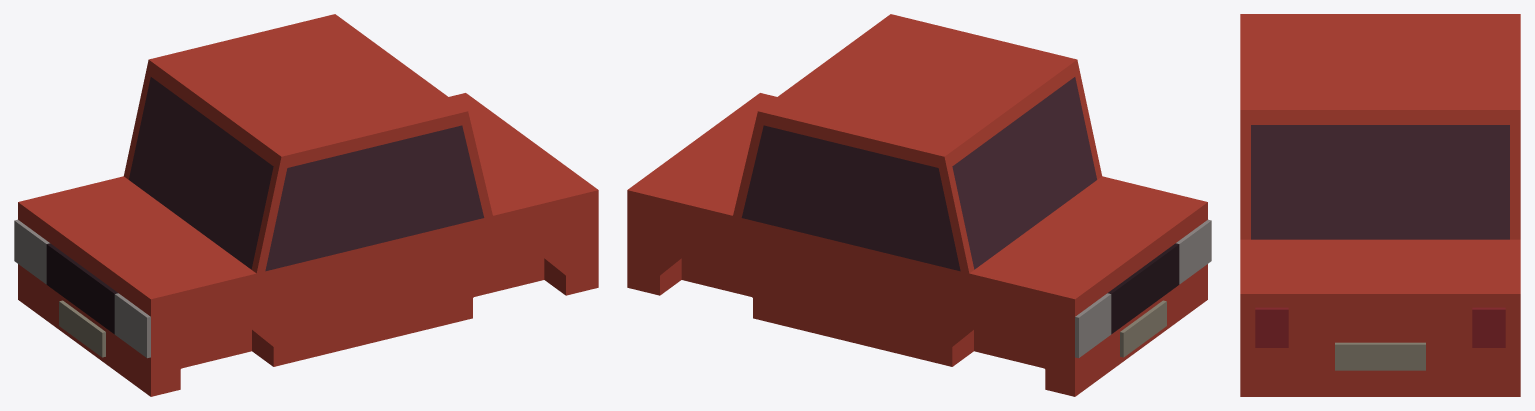
The model's file is Sedan_Red.fbx.
3 renders of one model, left to right at view 1: azimuth 30°, elevation 25°; view 2: azimuth 150°, elevation 25°; view 3: azimuth 270°, elevation 25°, orthographic. The views are drawn at different scales.
Parts seen in each view (by area): view 1: Sedan_Red, Sedan_Lights; view 2: Sedan_Red, Sedan_Lights; view 3: Sedan_Red, Sedan_Lights.
Boxes of the visible parts, <box> form: Sedan_Red: <box>18,14,598,396</box>; Sedan_Lights: <box>14,219,150,358</box>; Sedan_Red: <box>627,14,1207,396</box>; Sedan_Lights: <box>1075,219,1211,358</box>; Sedan_Red: <box>1240,14,1520,396</box>; Sedan_Lights: <box>1255,307,1505,347</box>.
Bounding box in the file's own units: 3.66 × 1.6 × 1.85.
